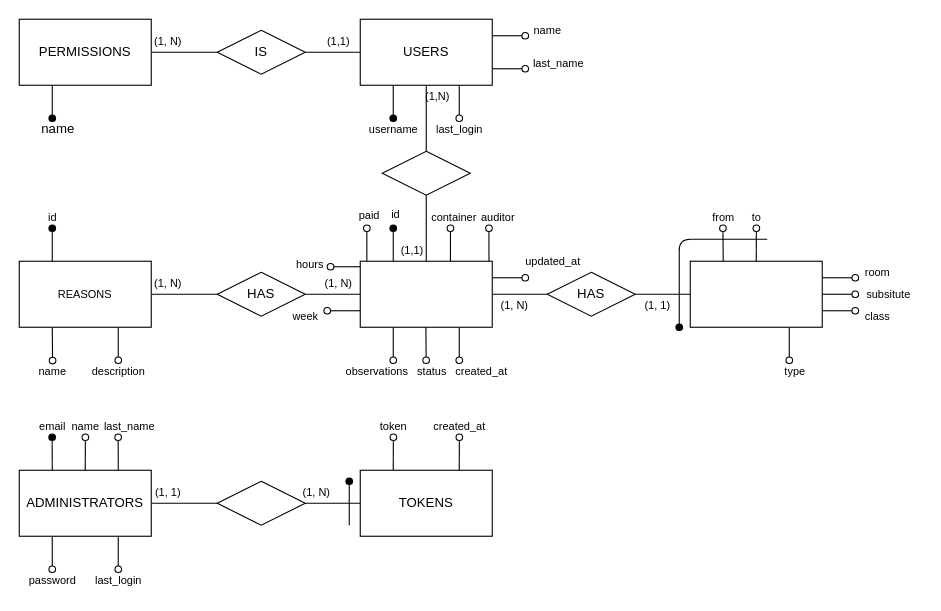
Some shapes in this 941 by 611 pixel diagram are drawn without their labels. Here are the shapes that lost their labels. From the top down, the centre of each, then its label:
At [425,172]: "CREATE".
At [425,293]: "REQUESTS".
At [755,293]: "SUBSTITUTES".
At [260,502]: "REQUEST".
